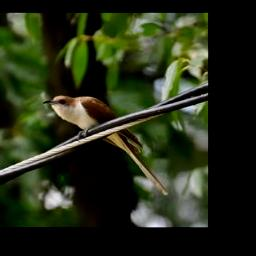Cuckoo: (42, 93, 170, 197)
